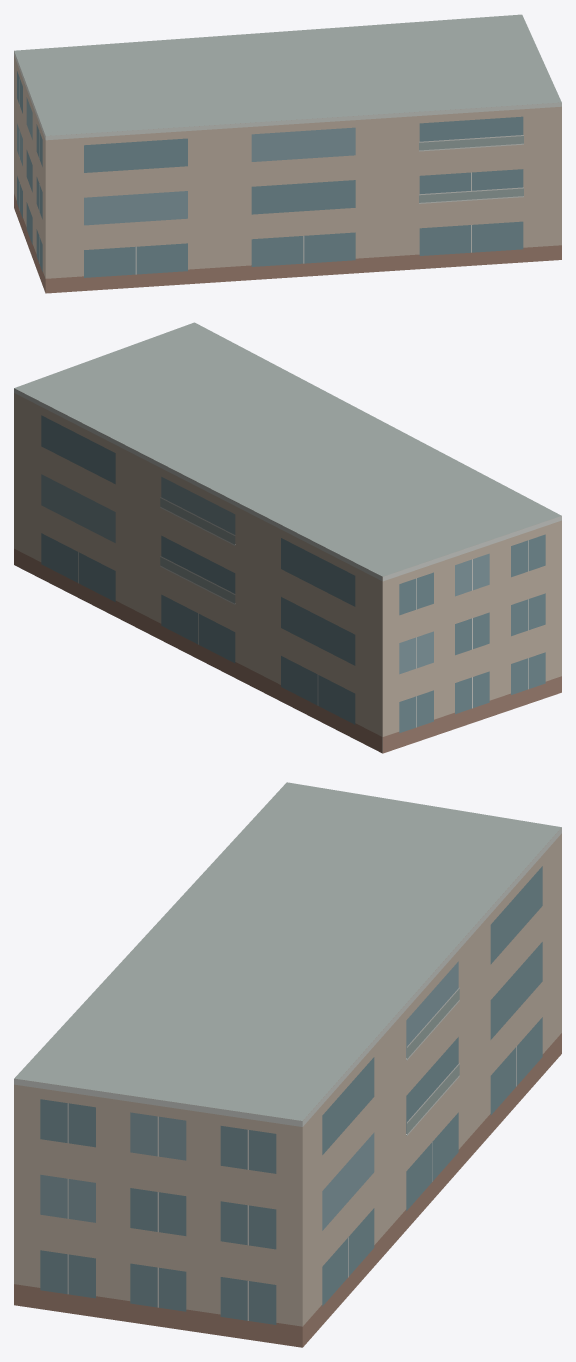
Rendered from survey-upis-32944108.glb.
3 views of the same model, one above another, from view 1: azimuth 30°, elevation 25°; view 2: azimuth 150°, elevation 25°; view 3: azimuth 270°, elevation 25° (orthographic). The views are drawn at different scales.
Visible parts, largest first — view 1: survey-upis-32944108.tmp; view 2: survey-upis-32944108.tmp; view 3: survey-upis-32944108.tmp.
Part boxes in pixels (x1,y1,x2,y2): survey-upis-32944108.tmp: (14, 14, 561, 293); survey-upis-32944108.tmp: (14, 322, 561, 753); survey-upis-32944108.tmp: (14, 782, 561, 1347).
Bounding box in the file's own units: 29.35 × 9.15 × 20.05.
